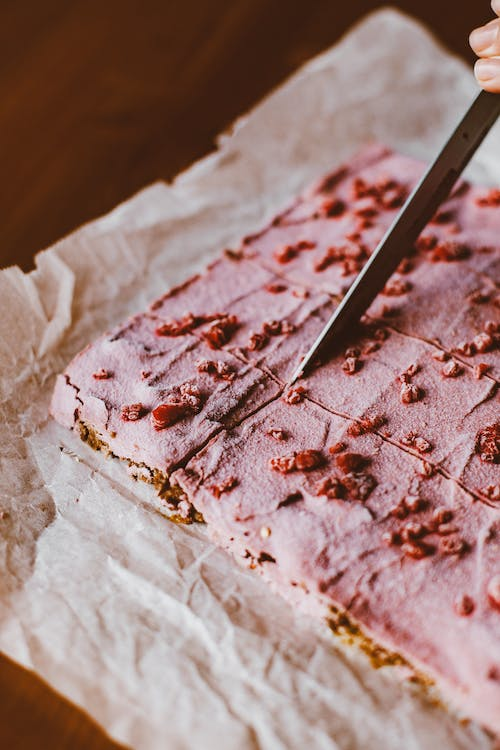knife: (285, 82, 500, 389)
